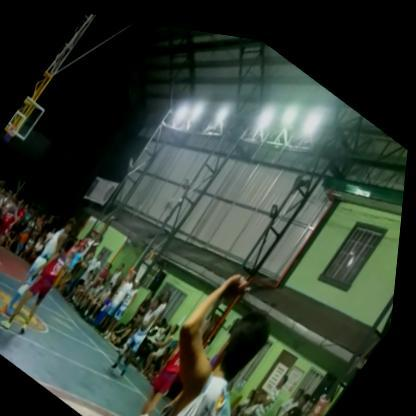rim: (0, 114, 27, 152)
